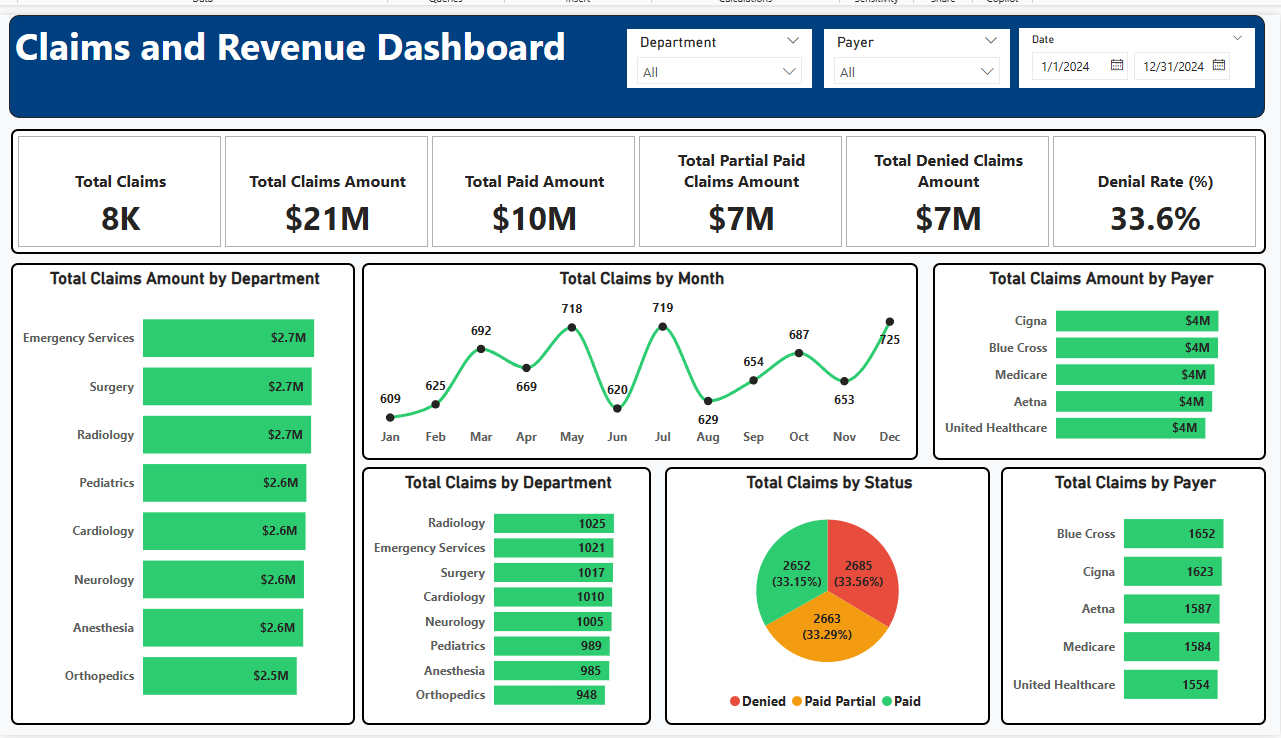

What the dashboard file says about the page in this screenshot:
{"tool":"powerbi","page":{"name":"Claims and Revenue Dashboard","canvas":[1280,720],"ordinal":0},"visuals":[{"type":"shape","box":[9.3,0,1256.2,102.6],"z":0},{"type":"textbox","box":[9.7,0,662.9,72],"z":1000},{"type":"slicer","fields":{"Values":["DateTable.Date"]},"box":[1019.4,13.2,235.3,59.7],"z":2000},{"type":"lineChart","fields":{"Category":["DateTable.Month"],"Y":["Calculations.Total Claims Submitted"]},"box":[361.8,248.5,555.8,196.7],"z":3000},{"type":"cardVisual","fields":{"Data":["Calculations.Total Claims Submitted","Calculations.Total Claims Amount","Calculations.Total Paid Amount","Calculations.Total Partial Paid Claims Amount","Calculations.Total Denied Claims Amount","Calculations.Denial Rate (%)"]},"box":[11.4,114.1,1254.7,124.7],"z":4000},{"type":"pieChart","fields":{"Y":["Calculations.Total Claims"],"Category":["claims_data_2024.Status"]},"box":[664.7,452.2,325.8,258.1],"z":5000},{"type":"barChart","fields":{"Category":["claims_data_2024.Department"],"Y":["Calculations.Total Claims"]},"box":[361.8,452.2,288.9,258.1],"z":6000},{"type":"barChart","fields":{"Category":["claims_data_2024.Department"],"Y":["Calculations.Total Claims Amount"]},"box":[11.4,248.5,343.3,461.9],"z":7000},{"type":"barChart","fields":{"Category":["claims_data_2024.Payer"],"Y":["Calculations.Total Claims"]},"box":[1001,452.2,265.2,258.1],"z":8000},{"type":"barChart","fields":{"Category":["claims_data_2024.Payer"],"Y":["Calculations.Total Claims Amount"]},"box":[933.4,248.5,332.8,196.7],"z":9000},{"type":"slicer","fields":{"Values":["claims_data_2024.Payer"]},"box":[824.5,14,185.3,58.8],"z":10000},{"type":"slicer","fields":{"Values":["claims_data_2024.Department"]},"box":[626.9,14,185.3,58.8],"z":11000}]}

Visuals, with their boxes in screenshot pixels (x1, y1, x2, y2):
shape: l=9, t=13, r=1249, b=115
textbox: l=10, t=13, r=664, b=84
slicer - DateTable.Date: l=1006, t=26, r=1238, b=85
lineChart - DateTable.Month x Calculations.Total Claims Submitted: l=357, t=259, r=906, b=453
cardVisual - Calculations.Total Claims Submitted x Calculations.Total Claims Amount: l=11, t=126, r=1250, b=249
pieChart - Calculations.Total Claims x claims_data_2024.Status: l=656, t=460, r=978, b=714
barChart - claims_data_2024.Department x Calculations.Total Claims: l=357, t=460, r=642, b=714
barChart - claims_data_2024.Department x Calculations.Total Claims Amount: l=11, t=259, r=350, b=714
barChart - claims_data_2024.Payer x Calculations.Total Claims: l=988, t=460, r=1250, b=714
barChart - claims_data_2024.Payer x Calculations.Total Claims Amount: l=921, t=259, r=1250, b=453
slicer - claims_data_2024.Payer: l=814, t=27, r=997, b=85
slicer - claims_data_2024.Department: l=619, t=27, r=802, b=85
